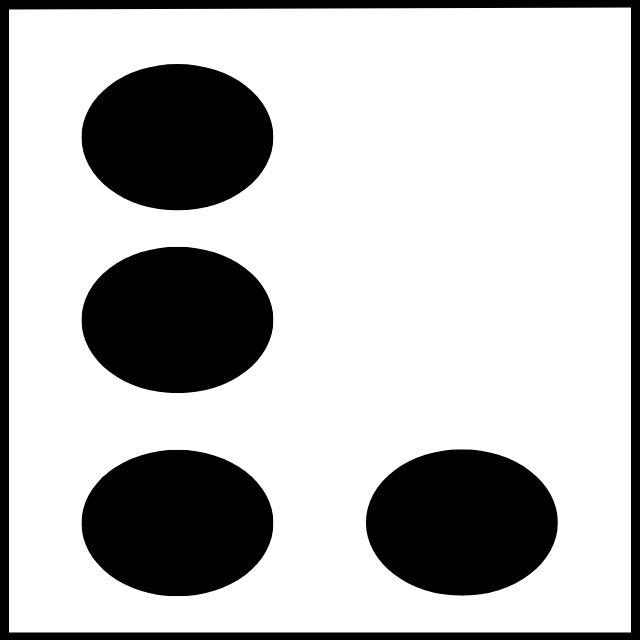one_cell_alphabet_bagaman: (82, 62, 560, 597)
